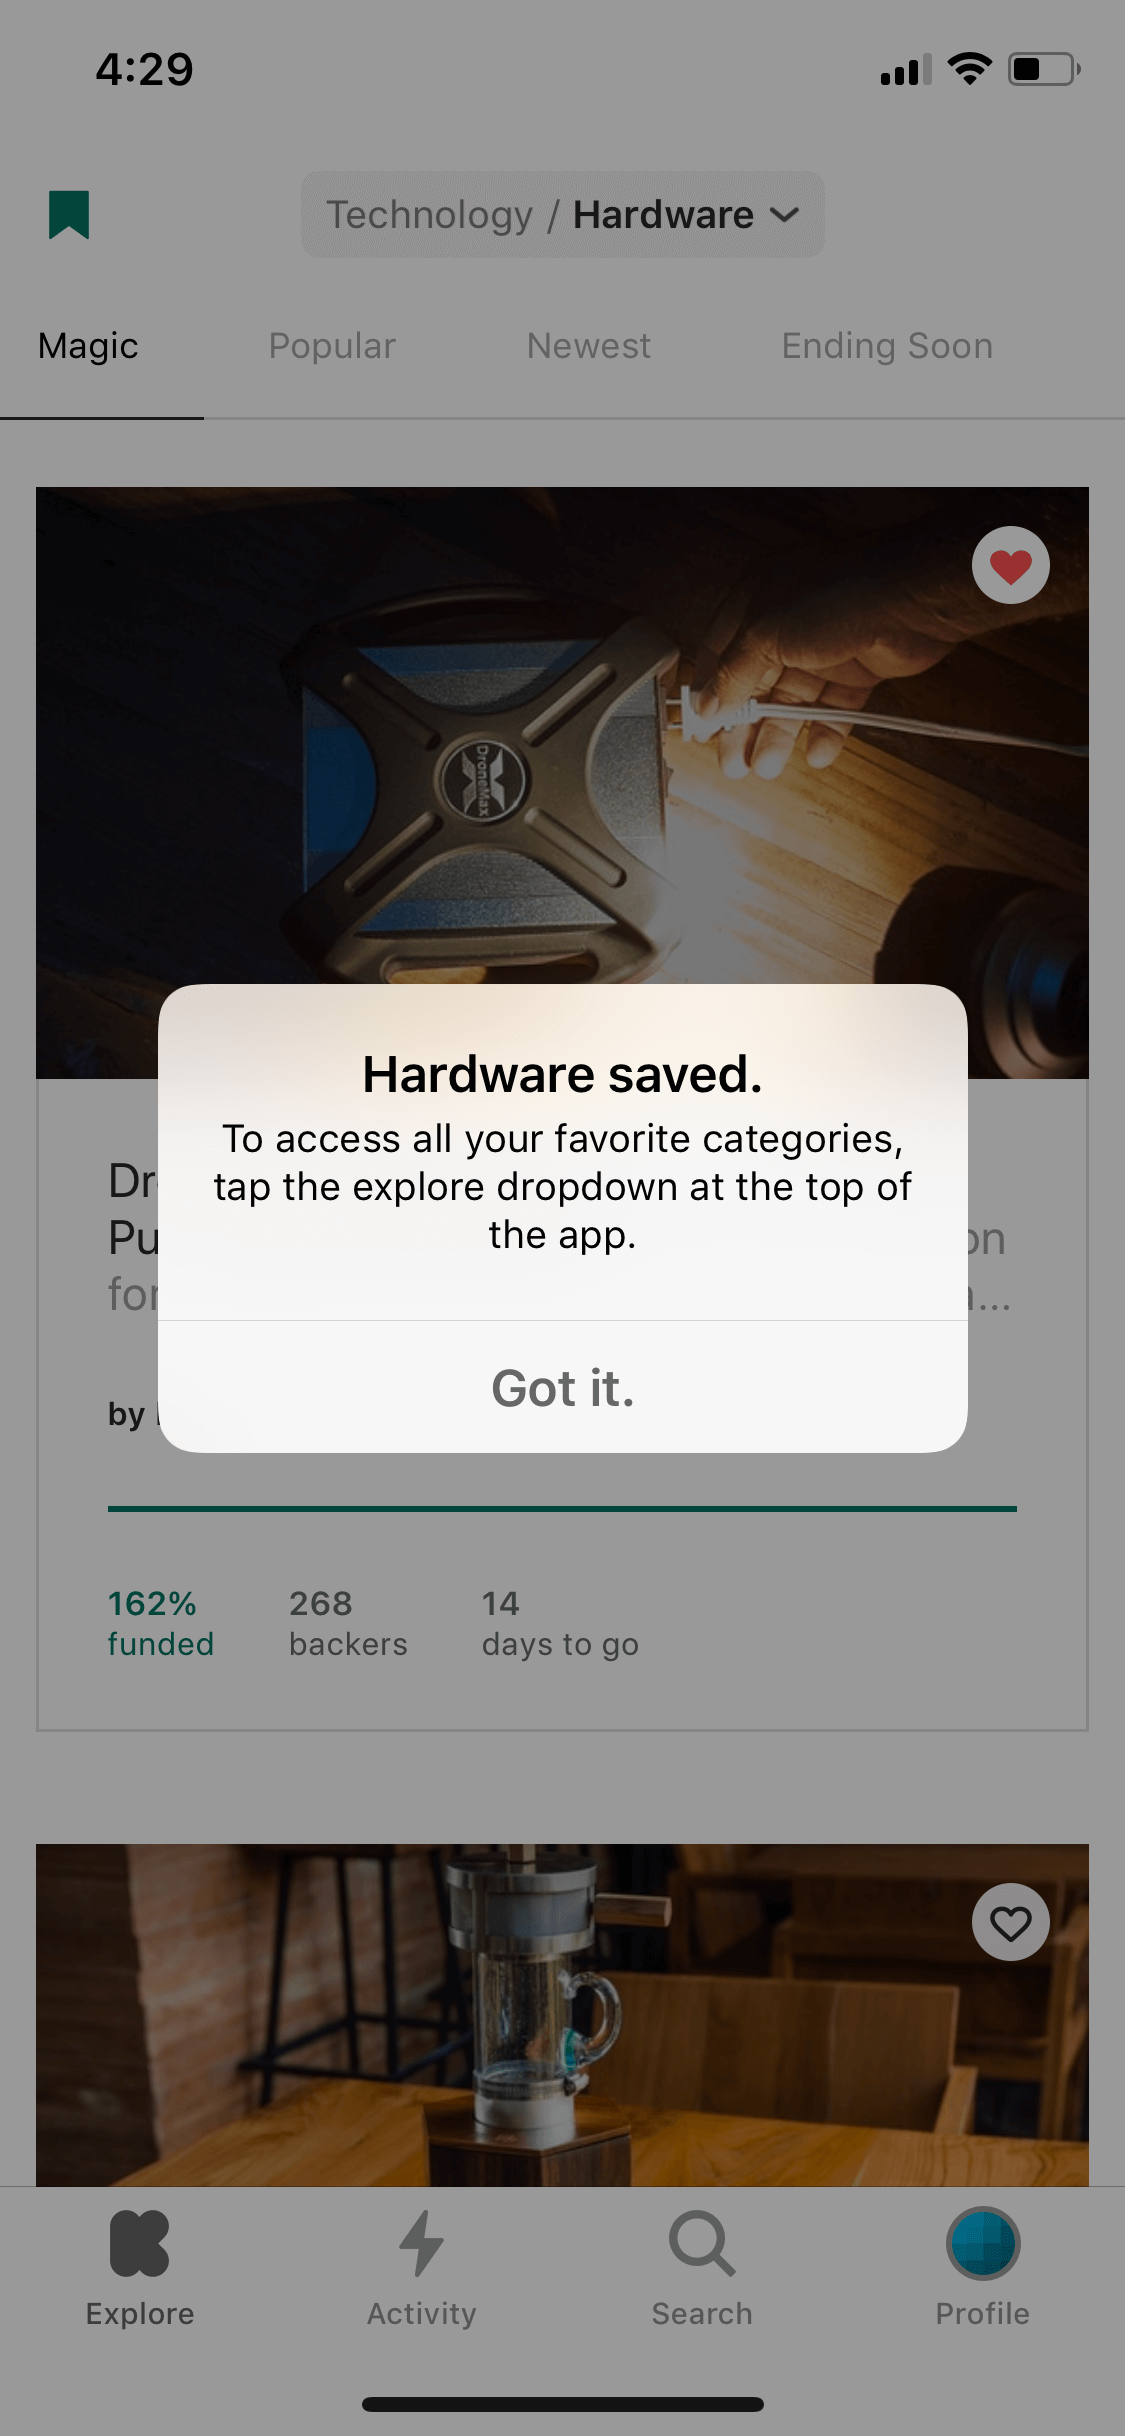Buttons: (287, 160, 831, 272), (22, 148, 132, 264), (956, 506, 1061, 617), (956, 1867, 1060, 1975)
